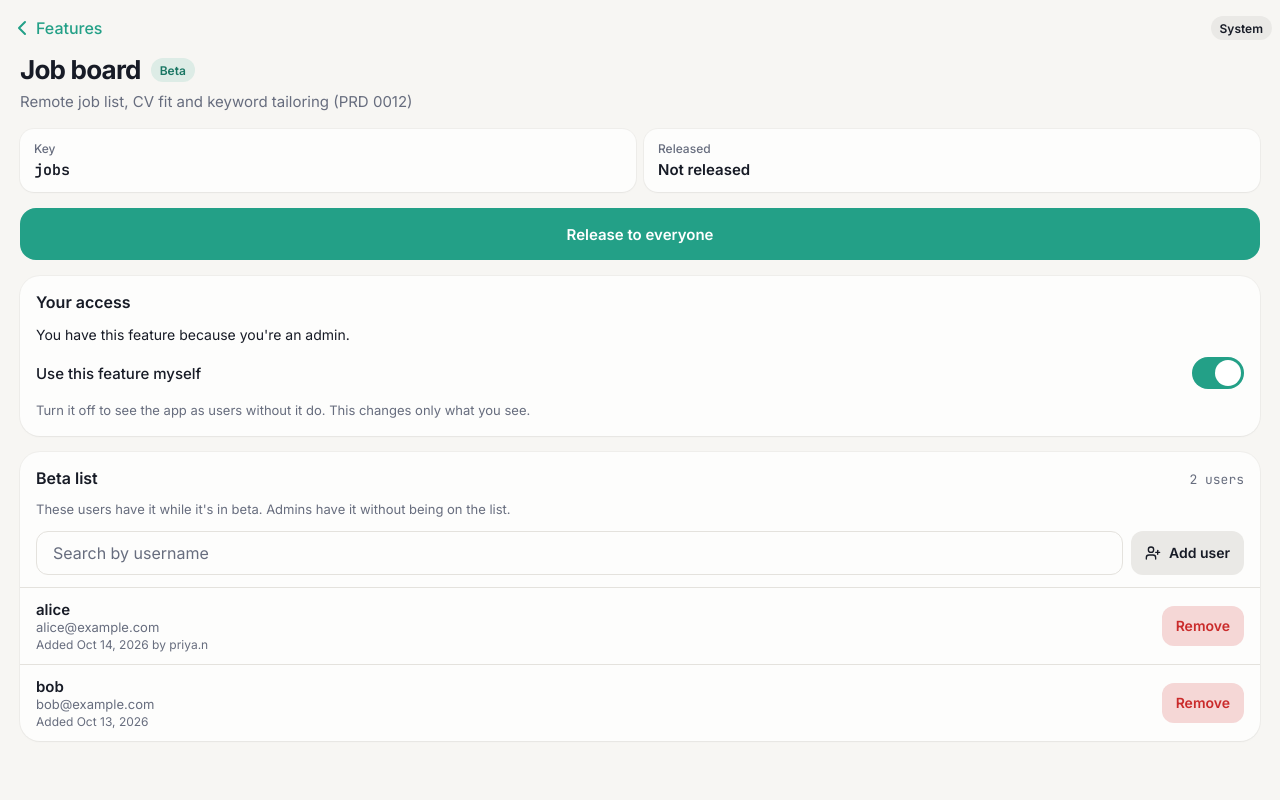
Scenario: a feature's page below md › turns the switch off with PUT opt-out, busy and still focused while it saves
The image size is (1280, 800).
Expected: the text "alice" is shown, [36,600,70,619]
Click the switch named "Use this feature myself": click(1218, 373) [1192,351,1244,395]
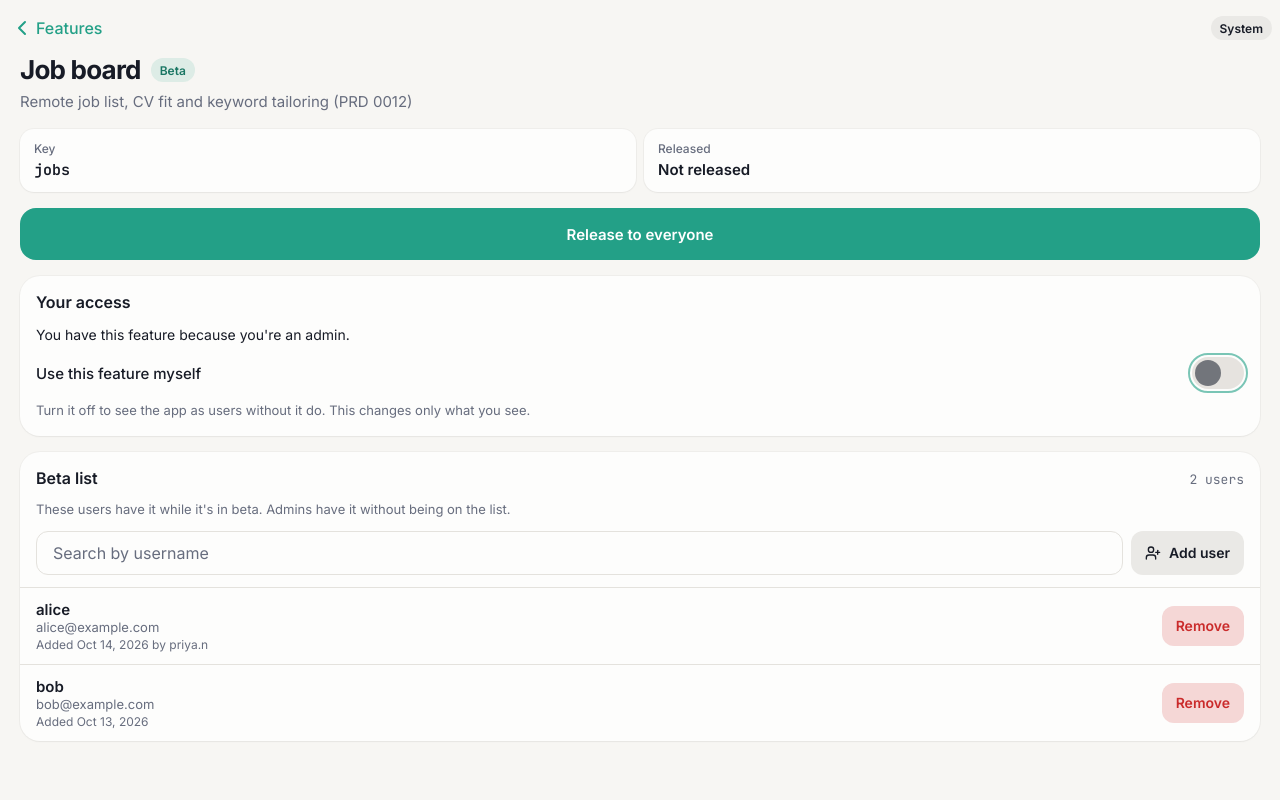
Expected: the switch named "Use this feature myself" has attribute aria-busy="true"
Expected: the switch named "Use this feature myself" is not checked
Expected: the switch named "Use this feature myself" is disabled
Click the switch named "Use this feature myself": click(1218, 373) [1192,351,1244,395]
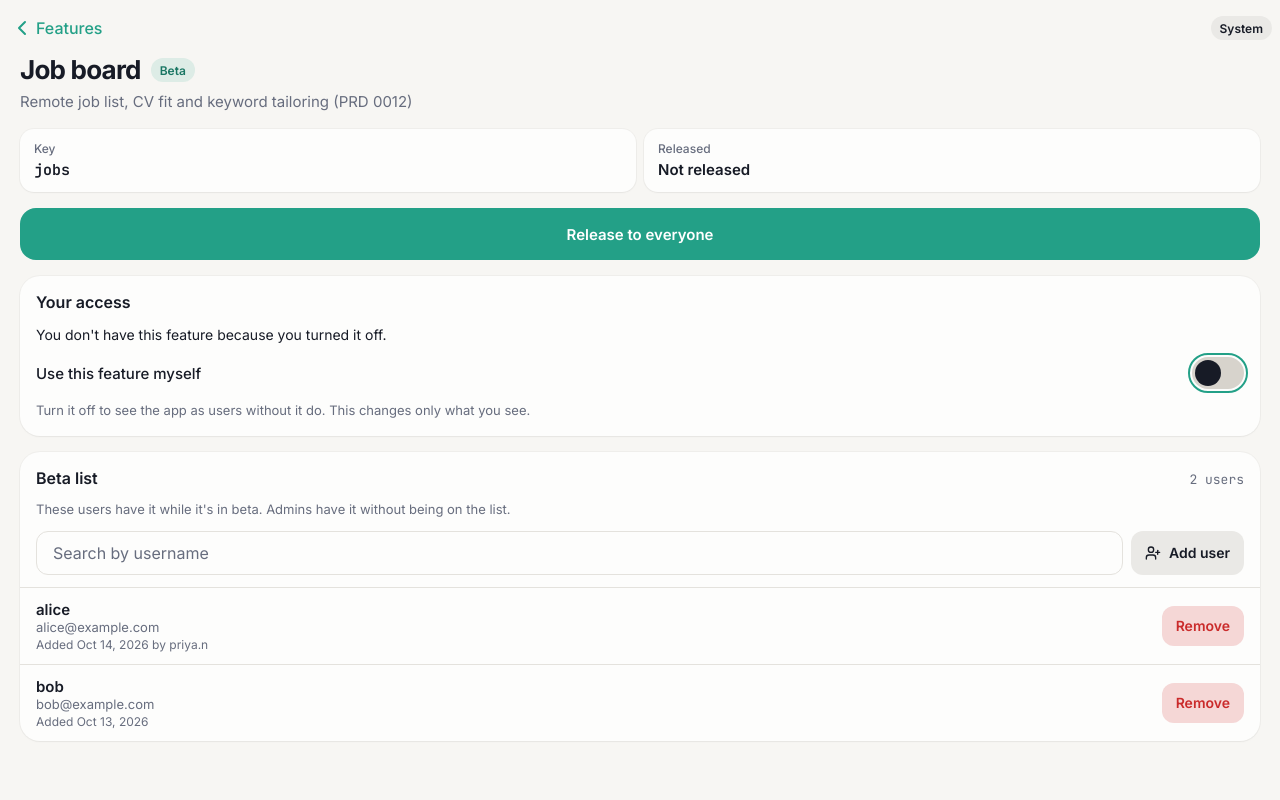
Expected: the text "You don't have this feature because you turned it off." is shown, [36,326,386,343]
